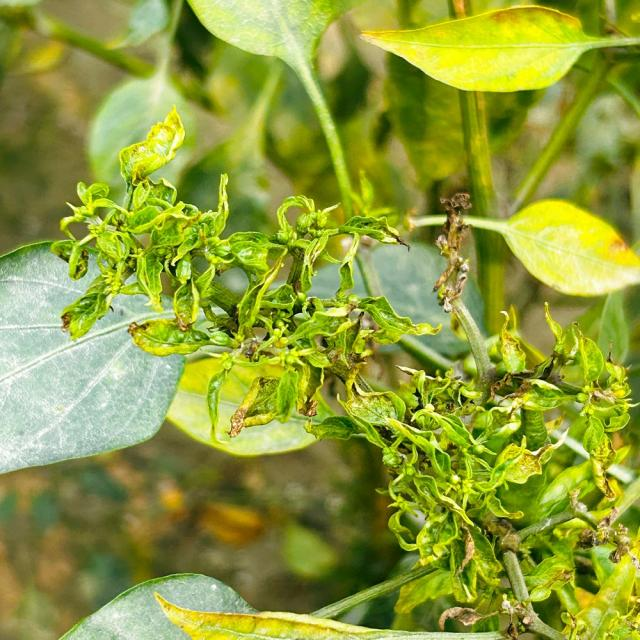Chilli_Leaf_Curl: (3, 1, 638, 638), (51, 104, 440, 453), (0, 238, 187, 476), (185, 0, 365, 227), (358, 3, 638, 94), (411, 195, 639, 298), (164, 351, 328, 456), (152, 590, 508, 638), (57, 571, 260, 639), (117, 104, 186, 188)
